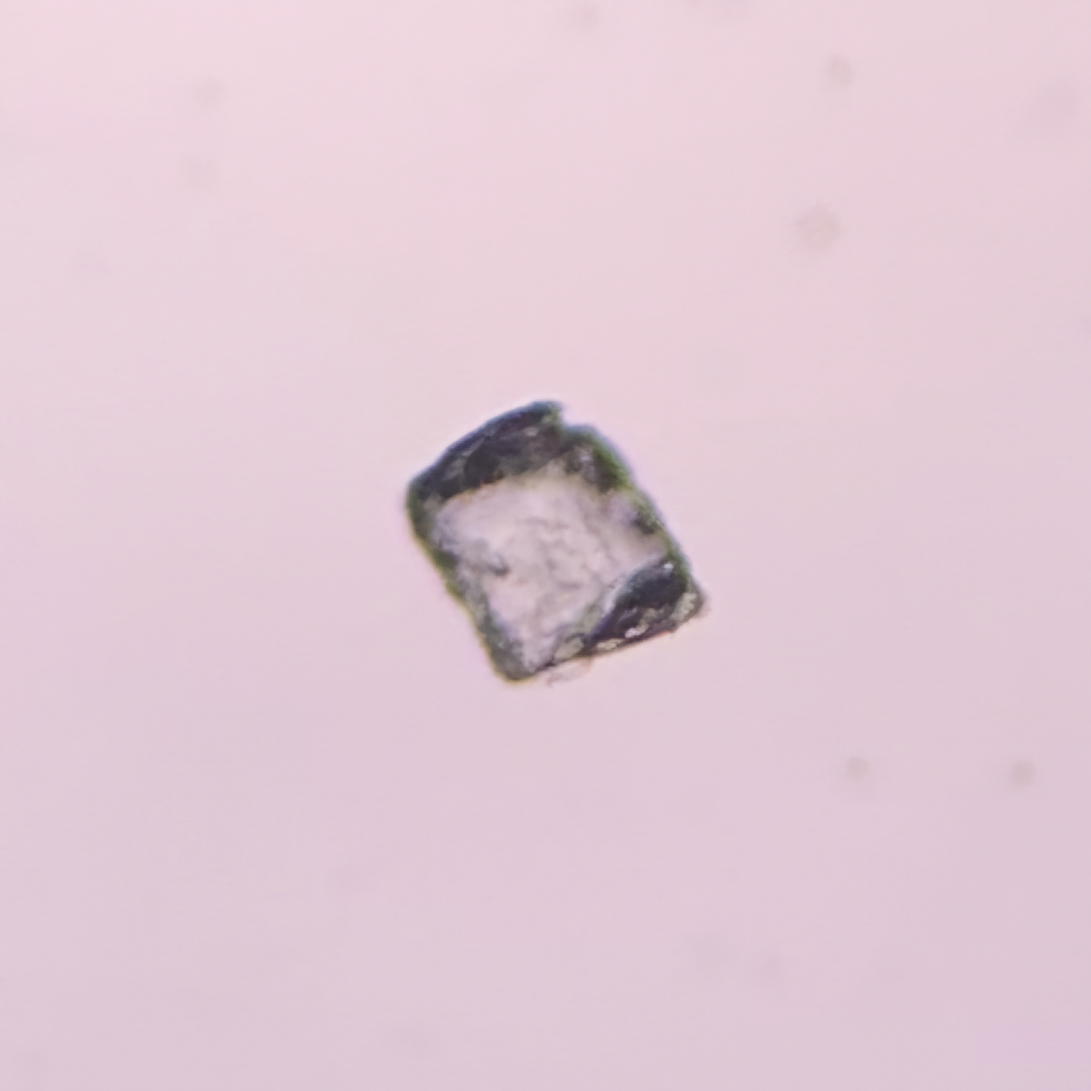microplastic: (400, 397, 704, 693)
